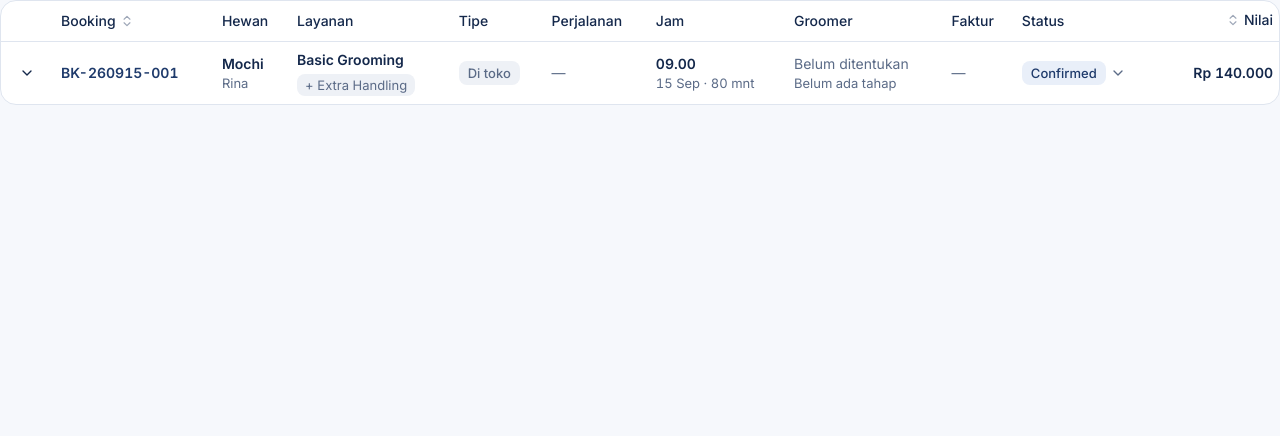
Scenario: GroomingBookingsTable — Rincian › shows each line's own discount, and the booking's discount under the subtotal
Click the button named "buka rincian mochi" at (27, 73), box x1=9 y1=57 x2=45 y2=89
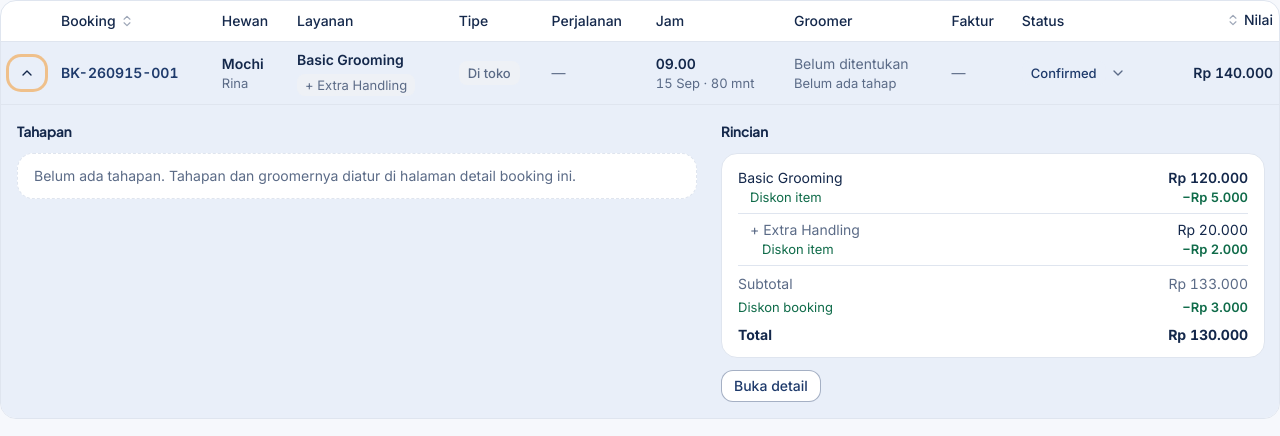
Result: the text "Diskon item" is shown 2 times at x1=750 y1=188 x2=822 y2=207; x1=762 y1=240 x2=834 y2=259
